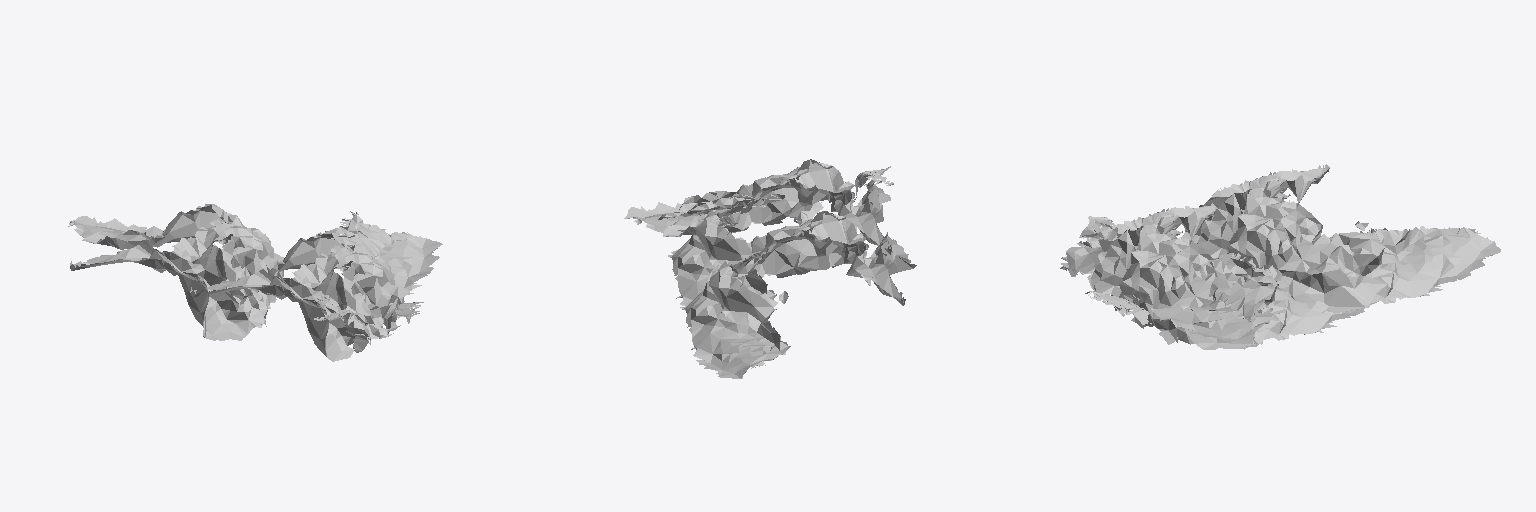
The model's file is rocks2.obj.
3 renders of one model, left to right at view 1: azimuth 30°, elevation 25°; view 2: azimuth 150°, elevation 25°; view 3: azimuth 270°, elevation 25°, orthographic.
Visible parts, largest first — view 1: RocksLO; view 2: RocksLO; view 3: RocksLO.
Boxes of the visible parts, x1,y1,x2,y2 form: RocksLO: [68, 204, 442, 361]; RocksLO: [624, 159, 916, 378]; RocksLO: [1060, 164, 1500, 349].
Size of the model in its own units: 3794 by 975 by 4482.